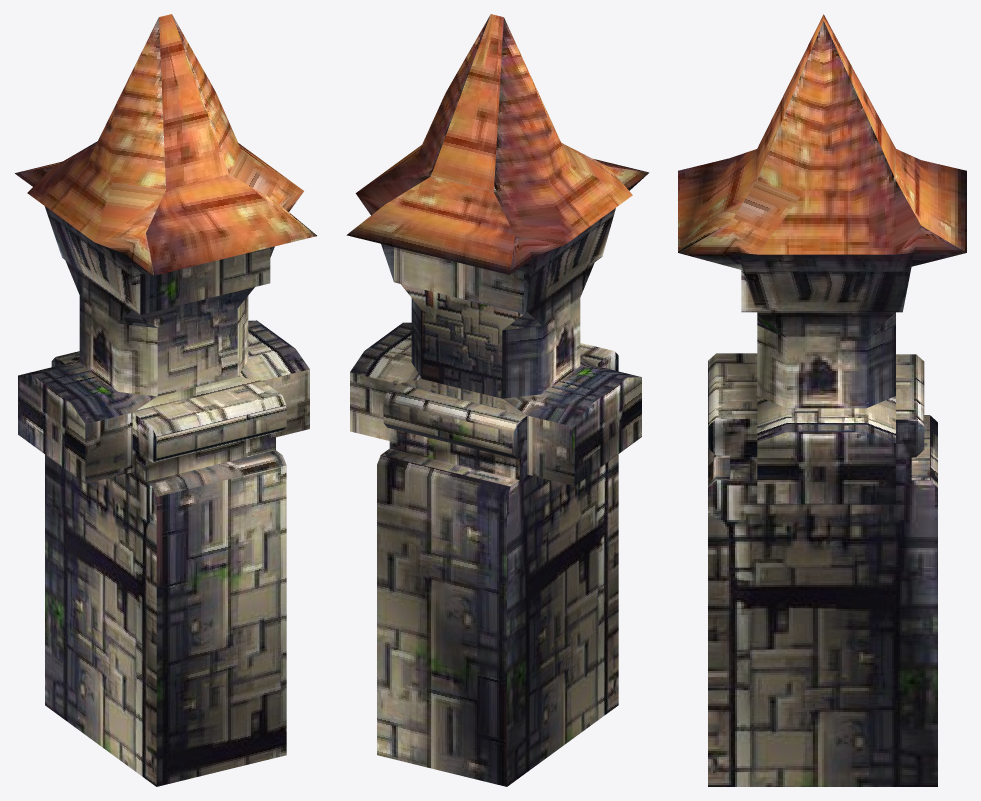
Rendered from castlepart1.glb.
3 views of the same model, side by side, from view 1: azimuth 30°, elevation 25°; view 2: azimuth 150°, elevation 25°; view 3: azimuth 270°, elevation 25° (orthographic). The views are drawn at different scales.
Visible parts, largest first — view 1: OIG2 (23); view 2: OIG2 (23); view 3: OIG2 (23).
Boxes of the visible parts, left/top/right/bottom form: OIG2 (23): left=15, top=14, right=316, bottom=786; OIG2 (23): left=346, top=14, right=649, bottom=786; OIG2 (23): left=678, top=14, right=966, bottom=786.
Size of the model in its own units: 0.1271 by 0.3863 by 0.1372.
Materials: 1 (1 with a texture image).
